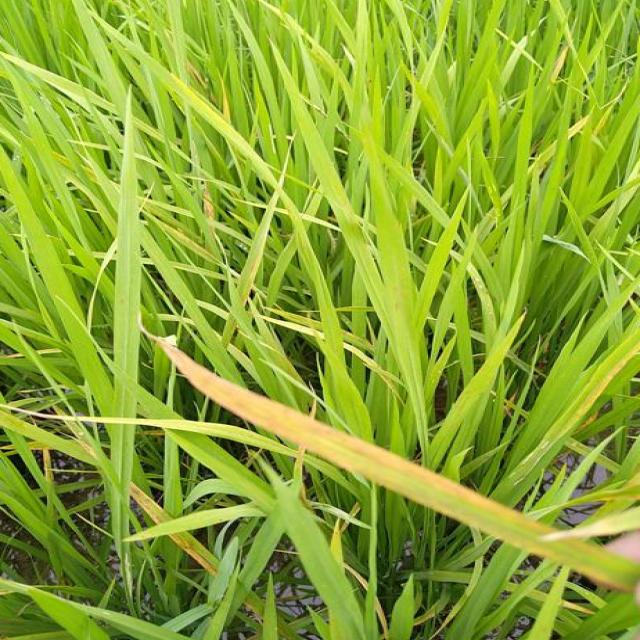Leaf Blight: (150, 338, 640, 594), (25, 411, 273, 445), (168, 532, 219, 576), (130, 484, 172, 525)
